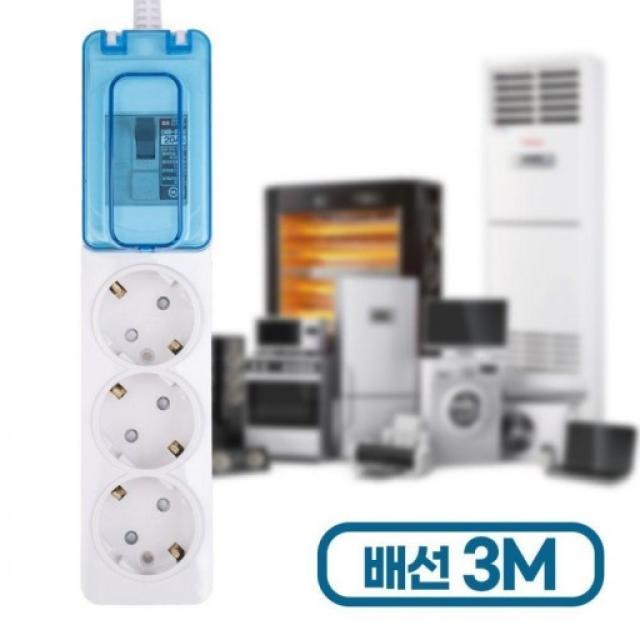typeb: (58, 252, 240, 624)
